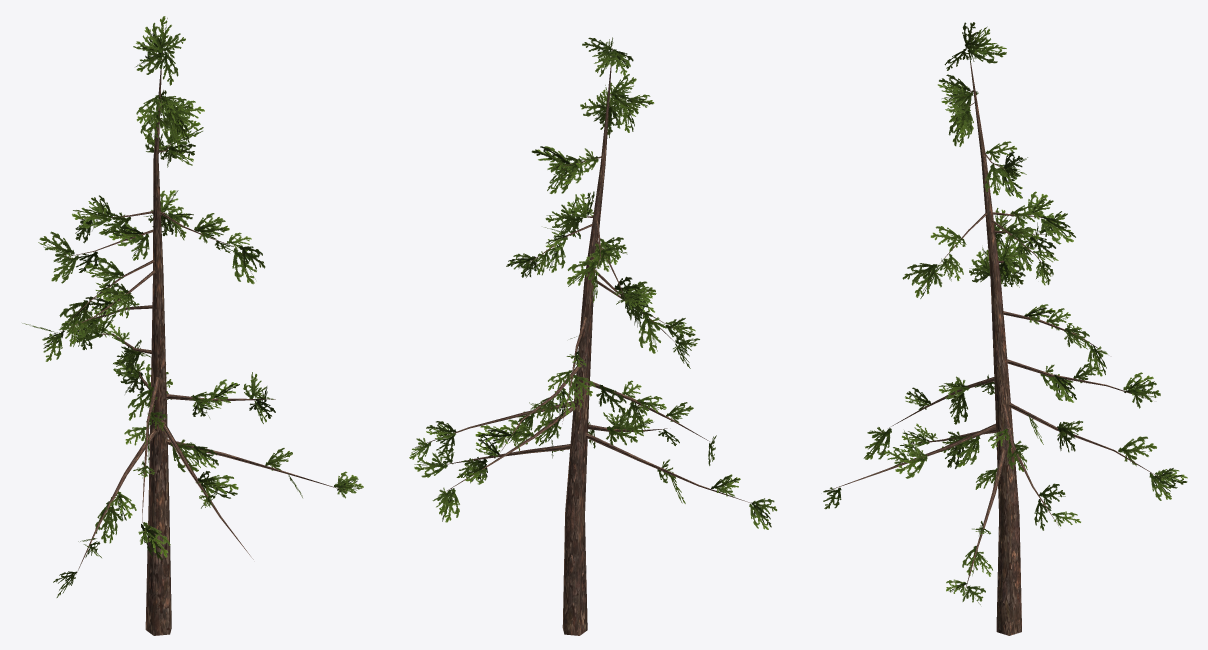
File: pine-young.glb
3 renders of one model, left to right at view 1: azimuth 30°, elevation 25°; view 2: azimuth 150°, elevation 25°; view 3: azimuth 270°, elevation 25°, orthographic. The views are drawn at different scales.
Parts seen in each view (by area): view 1: needles, bark; view 2: needles, bark; view 3: needles, bark.
Boxes of the visible parts, bbox=[...] form: needles: bbox=[22, 16, 363, 597]; bark: bbox=[60, 50, 345, 635]; needles: bbox=[409, 37, 777, 529]; bark: bbox=[416, 45, 751, 635]; needles: bbox=[823, 22, 1187, 604]; bark: bbox=[828, 48, 1162, 635].
Bounding box in the file's own units: 4.07 × 7 × 4.
2 materials, 2 textured.
